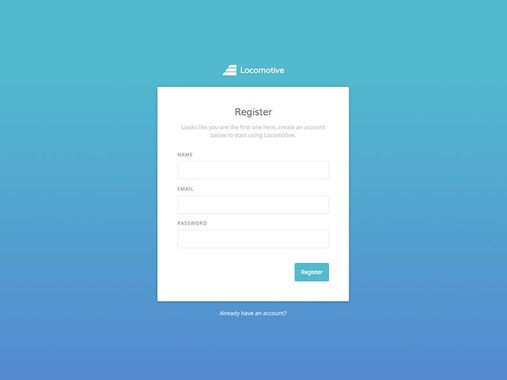_form_: (1, 1, 416, 380)
button: (292, 260, 330, 283)
field: (174, 159, 331, 183), (175, 192, 332, 216), (176, 227, 333, 250)
